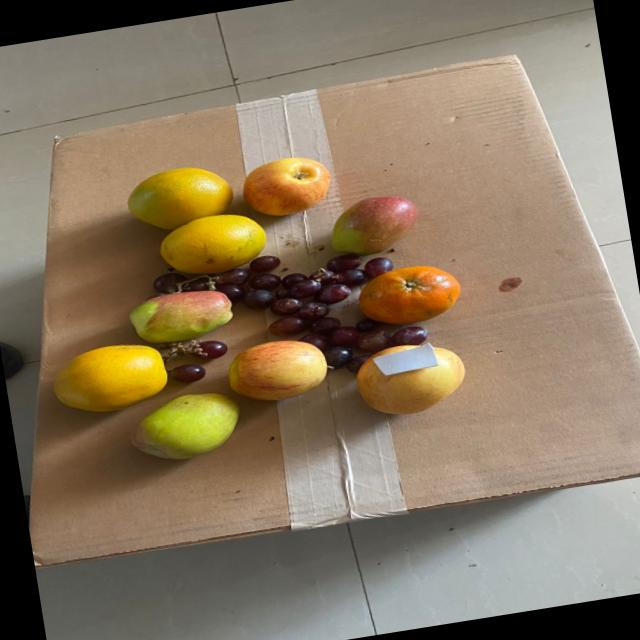hoja: (370, 341, 444, 381)
